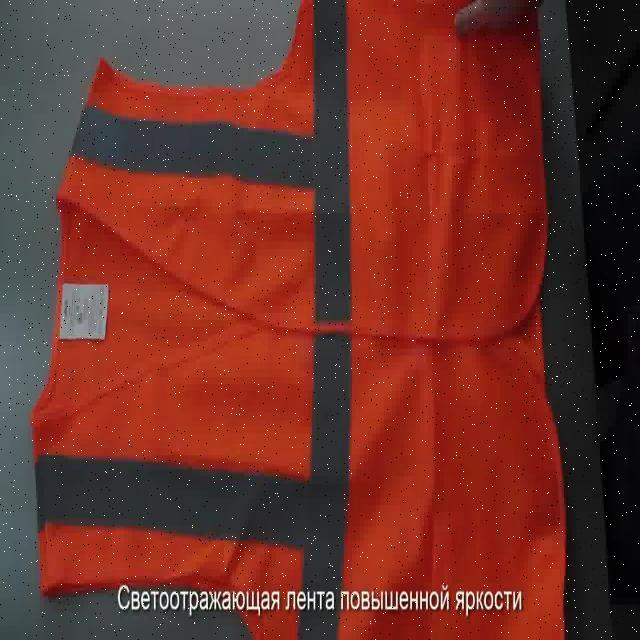Vest: (45, 18, 548, 630)
